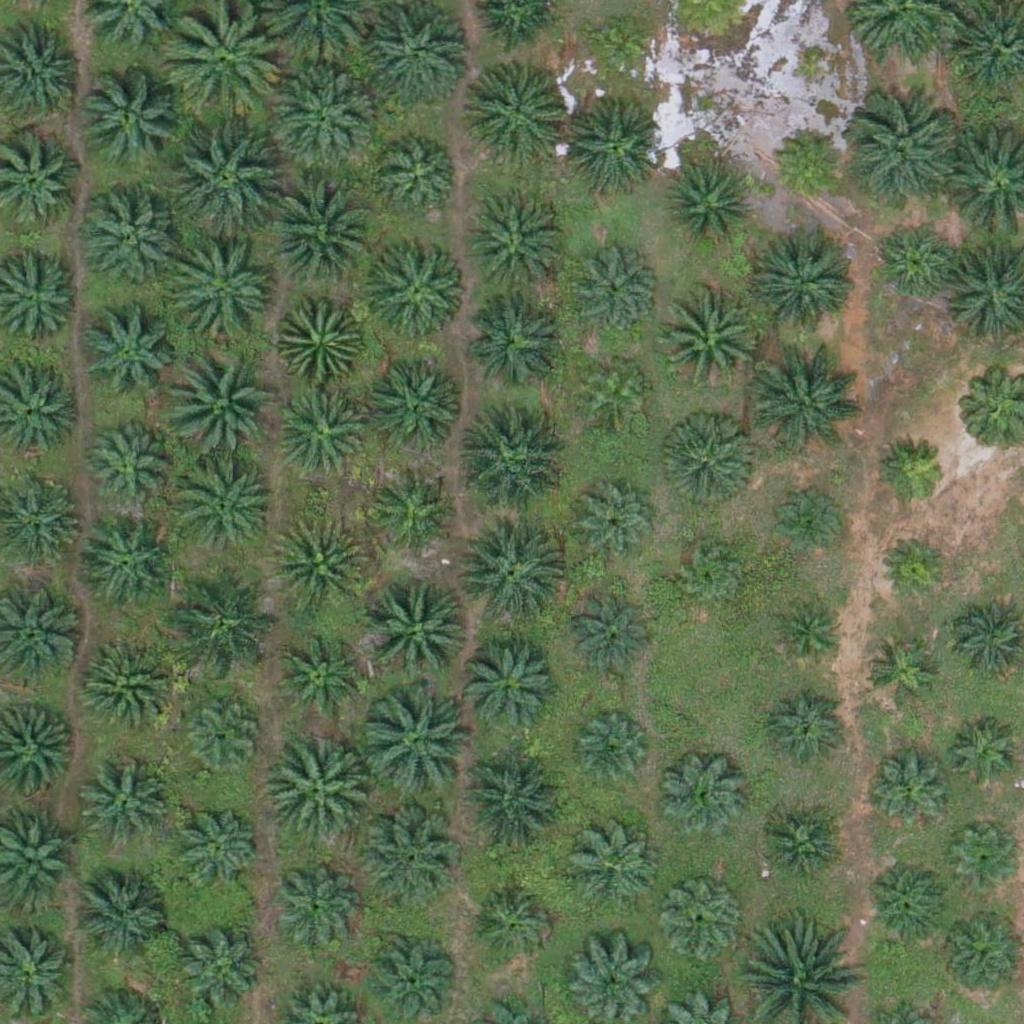Kelapa_Sawit: (450, 753, 563, 866), (359, 690, 472, 803), (170, 562, 283, 675), (170, 237, 283, 350), (169, 121, 282, 234), (848, 95, 961, 208), (270, 58, 382, 172), (365, 575, 477, 689), (259, 734, 371, 847), (169, 451, 281, 564), (164, 341, 276, 454), (167, 4, 279, 117), (262, 173, 374, 286), (451, 404, 563, 517), (452, 518, 564, 631), (753, 344, 865, 457), (459, 640, 559, 741), (356, 807, 456, 908), (73, 636, 173, 737), (75, 865, 175, 966), (80, 68, 180, 169), (75, 304, 175, 405), (78, 516, 178, 617), (268, 515, 368, 616), (367, 359, 467, 460), (366, 235, 466, 336), (468, 199, 568, 300), (466, 290, 566, 391), (559, 97, 659, 198), (658, 290, 758, 391), (755, 229, 855, 330), (79, 186, 179, 286), (465, 61, 565, 161), (659, 409, 759, 509), (865, 744, 953, 833), (763, 688, 851, 776), (751, 804, 839, 892), (935, 911, 1023, 999), (181, 693, 269, 781), (170, 800, 258, 888), (174, 928, 262, 1016), (367, 933, 455, 1021), (468, 879, 556, 967), (657, 880, 745, 968), (83, 761, 171, 849), (872, 221, 960, 309), (279, 385, 367, 473), (275, 636, 363, 724), (373, 460, 461, 548), (566, 593, 654, 681), (573, 475, 661, 563), (864, 859, 951, 947), (271, 861, 358, 949), (659, 751, 746, 839), (570, 824, 657, 912), (85, 418, 172, 506), (277, 293, 364, 381), (378, 135, 465, 223), (571, 242, 658, 330), (665, 162, 752, 250), (769, 123, 844, 199), (574, 714, 649, 790), (772, 485, 847, 561), (947, 824, 1022, 900), (770, 597, 845, 673), (581, 8, 656, 84), (877, 435, 952, 510), (578, 356, 653, 431), (862, 635, 937, 710), (676, 540, 751, 615), (877, 531, 952, 606)
